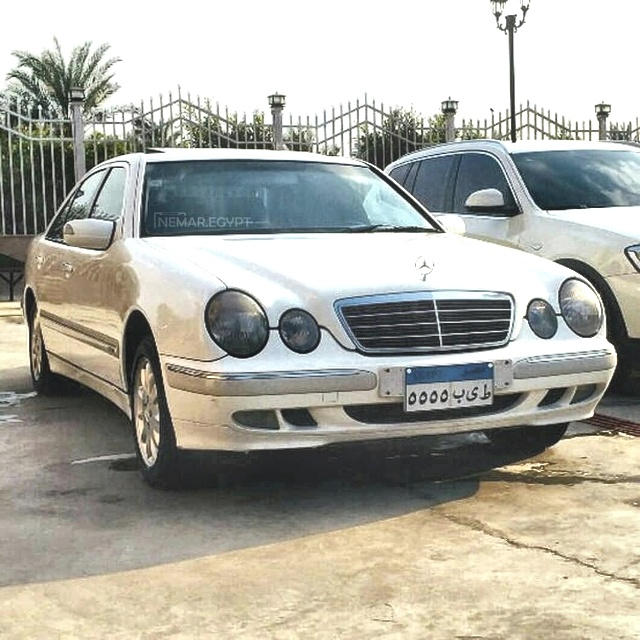License Plate: (401, 360, 496, 415)
